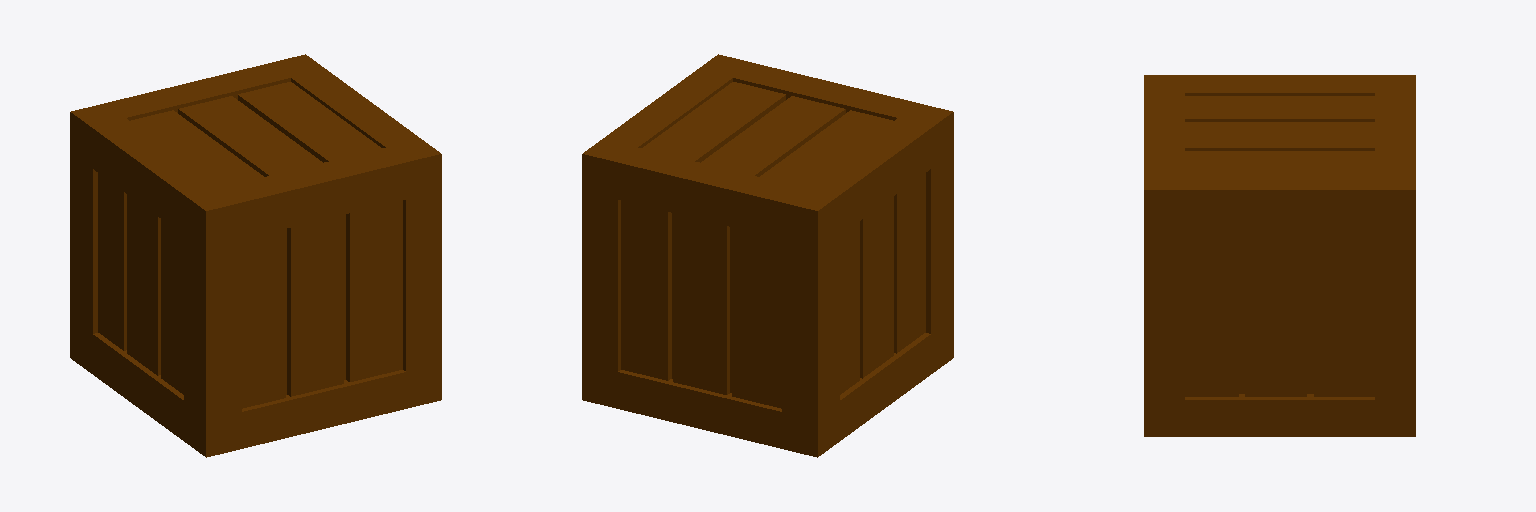
File: WoodenBox.obj
3 views of the same model, side by side, from view 1: azimuth 30°, elevation 25°; view 2: azimuth 150°, elevation 25°; view 3: azimuth 270°, elevation 25° (orthographic).
Parts seen in each view (by area): view 1: WoodenBox_Cube.071; view 2: WoodenBox_Cube.071; view 3: WoodenBox_Cube.071.
Boxes of the visible parts, x1=… form: WoodenBox_Cube.071: x1=70, y1=54, x2=441, y2=457; WoodenBox_Cube.071: x1=582, y1=54, x2=953, y2=457; WoodenBox_Cube.071: x1=1144, y1=75, x2=1415, y2=436.
Size of the model in its own units: 1.37 by 1.37 by 1.37.